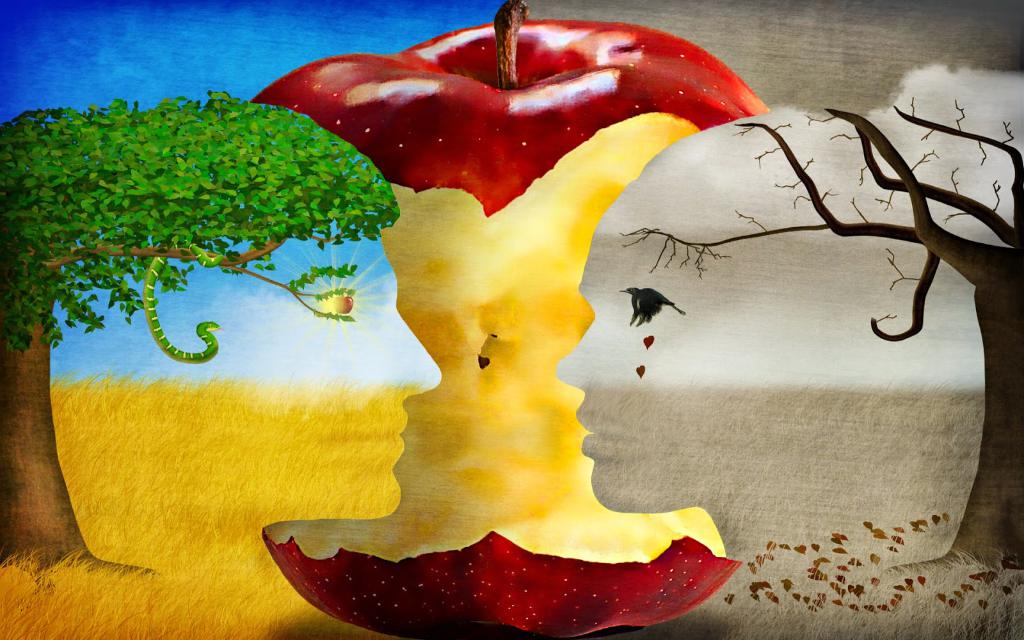Apple: (251, 0, 767, 639)
